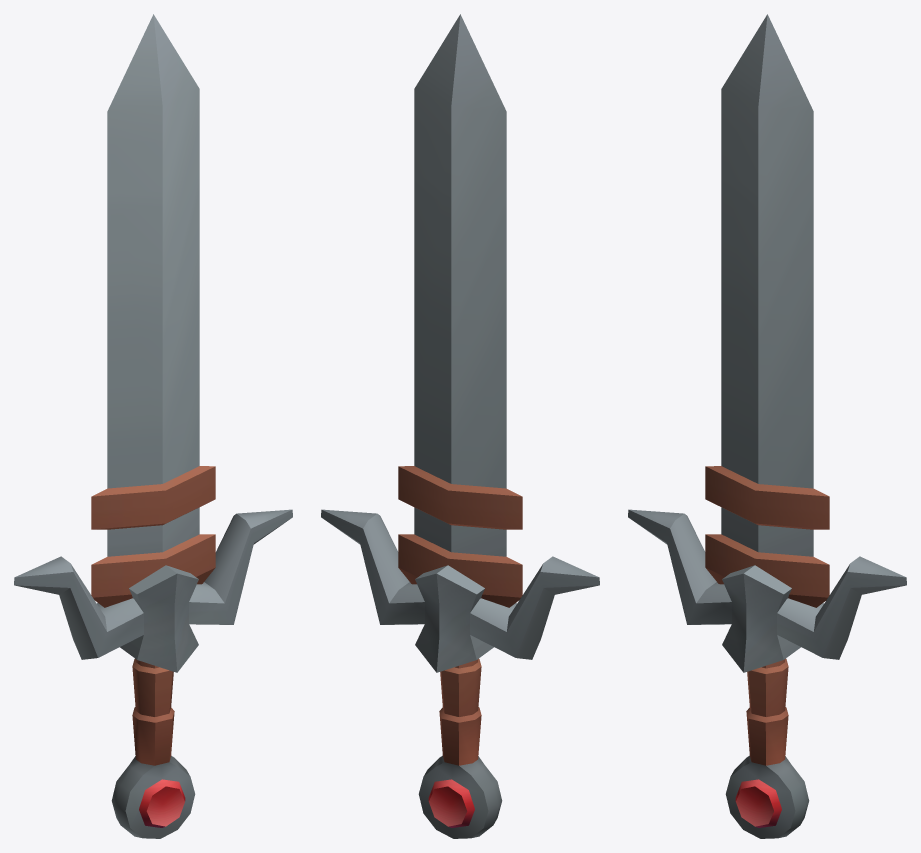
The model's file is sword_2handed.glb.
3 renders of one model, left to right at view 1: azimuth 30°, elevation 25°; view 2: azimuth 150°, elevation 25°; view 3: azimuth 330°, elevation 25°, orthographic.
Parts seen in each view (by area): view 1: sword_2handed; view 2: sword_2handed; view 3: sword_2handed.
Part boxes in pixels (x1,y1,x2,y2): sword_2handed: (14,14,292,838); sword_2handed: (321,14,599,838); sword_2handed: (628,14,906,838).
Size of the model in its own units: 0.839 by 2.37 by 0.2481.
Materials: 1 (1 with a texture image).
